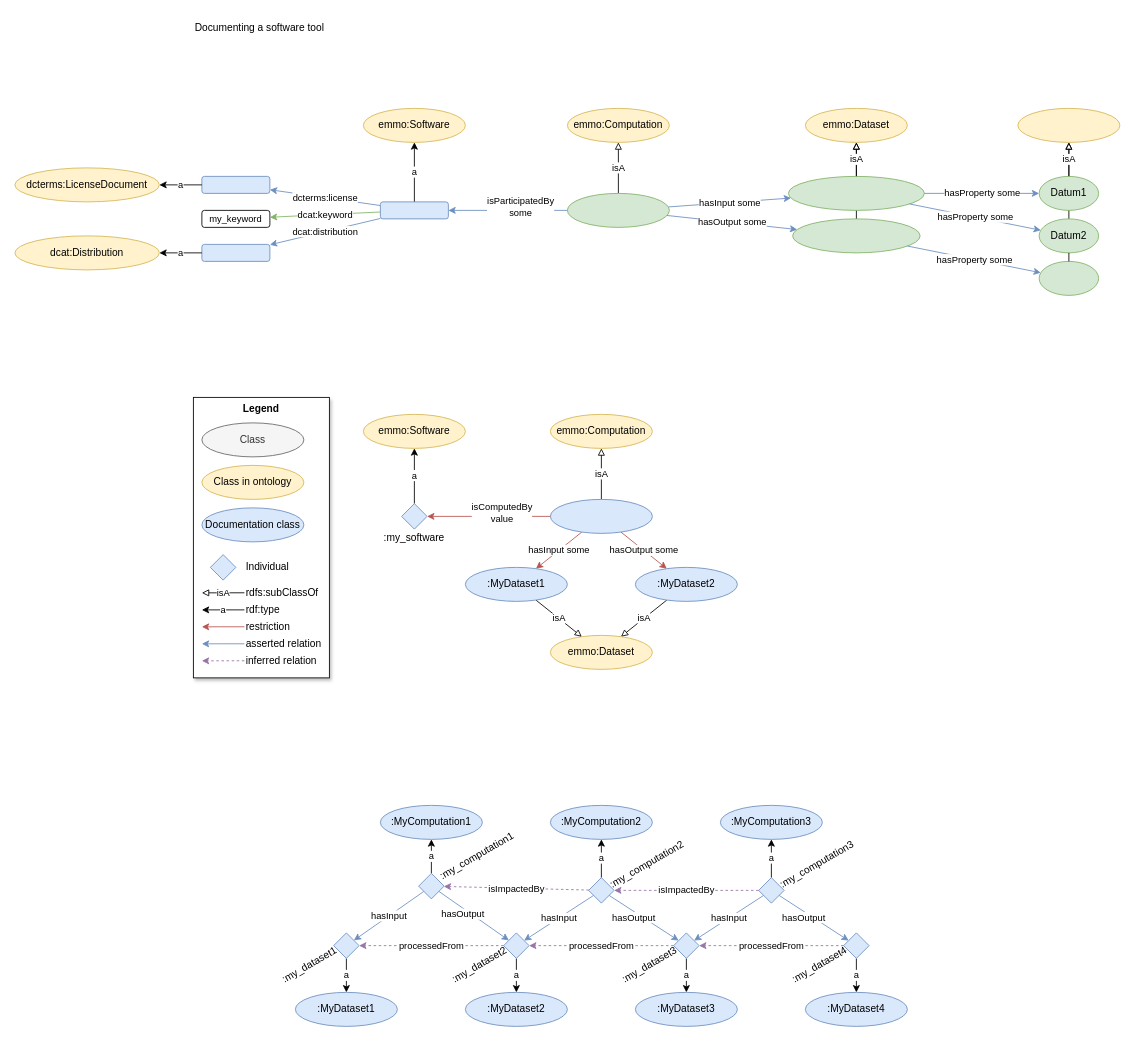
Image size: 1135x1041. Some labels were removed from this diagram. Here are the shapes that lost their labels. From the top down, the centre of each, then its label:
At pixel 1068 125: "emmo:Datum".
At pixel 235 184: "my_license".
At pixel 856 193: "MyComputationInput".
At pixel 414 210: "my_software".
At pixel 618 210: "MyComputation".
At pixel 235 252: "my_distribution".
At pixel 856 235: "MyComputationOutput".
At pixel 1068 278: "Datum3".
At pixel 601 516: ":MyComputation".
